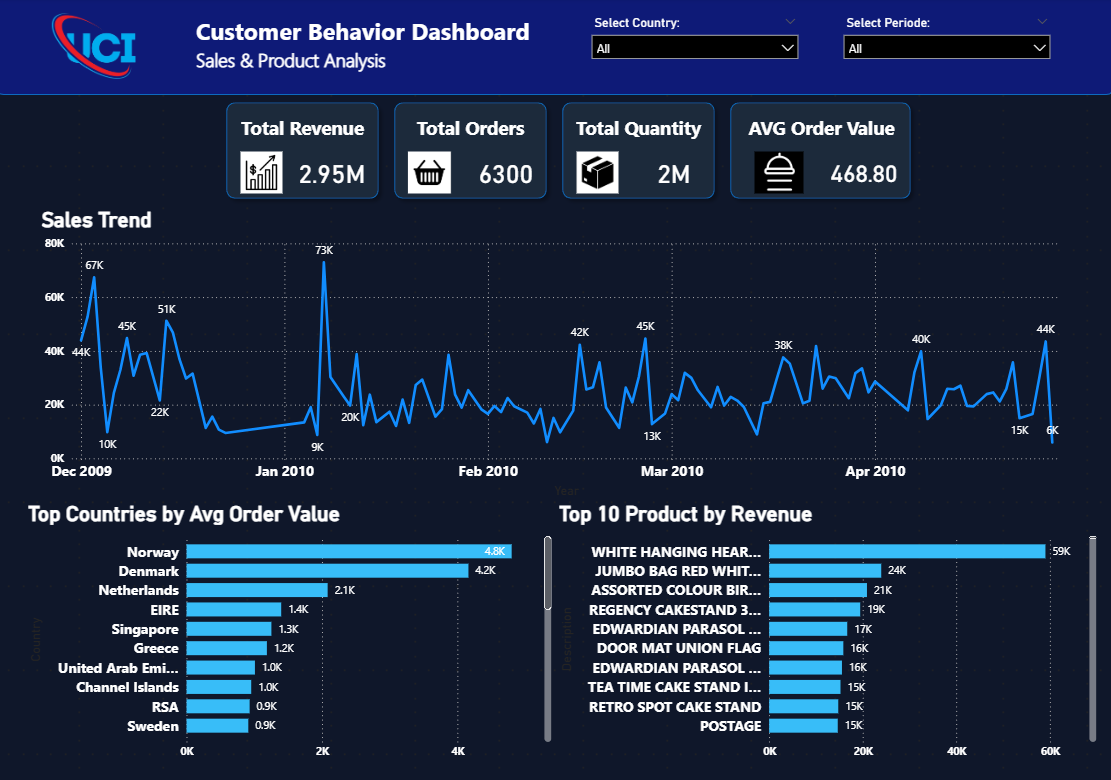

The dashboard page shown, as its layout file describes it:
{"tool":"powerbi","page":{"name":"Sales & Product Analysis","canvas":[1280,900],"ordinal":1},"visuals":[{"type":"shape","box":[256,112,192,128],"z":0},{"type":"shape","box":[448,112,192,128],"z":1000},{"type":"shape","box":[0,0,1280,112],"z":2000},{"type":"shape","box":[832,112,224,128],"z":3000},{"type":"textbox","box":[224,16,448,80],"z":4000},{"type":"shape","box":[640,112,192,128],"z":5000},{"type":"card","fields":{"Values":["Measure.Avg Order Value"]},"box":[944,176,96,48],"z":6000},{"type":"barChart","title":"Top 10 Product by Revenue","fields":{"Category":["cleaned_data.Description"],"Y":["Measure.Total Revenue"]},"box":[640,576,624,304],"z":7000},{"type":"card","fields":{"Values":["Measure.Total Orders"]},"box":[544,176,80,48],"z":8000},{"type":"card","fields":{"Values":["Measure.Total Quantity"]},"box":[736,176,80,48],"z":9000},{"type":"image","box":[32,16,160,80],"z":10000},{"type":"textbox","box":[448,128,192,48],"z":11000},{"type":"slicer","fields":{"Values":["cleaned_data.Country"]},"box":[672,16,256,80],"z":12000},{"type":"textbox","box":[640,128,192,48],"z":13000},{"type":"slicer","fields":{"Values":["cleaned_data.Year"]},"box":[960,16,256,80],"z":14000},{"type":"textbox","box":[848,128,192,48],"z":15000},{"type":"barChart","title":"Top Countries by Avg Order Value","fields":{"Category":["cleaned_data.Country"],"Y":["Measure.Avg Order Value"]},"box":[32,576,608,304],"z":16000},{"type":"textbox","box":[256,128,192,48],"z":17000},{"type":"lineChart","title":"Sales Trend","fields":{"Y":["Measure.Total Revenue"],"Category":["cleaned_data.InvoiceDate.Variation.Date Hierarchy.Year","cleaned_data.InvoiceDate.Variation.Date Hierarchy.Quarter","cleaned_data.InvoiceDate.Variation.Date Hierarchy.Month","cleaned_data.InvoiceDate.Variation.Date Hierarchy.Day"]},"box":[48,240,1200,336],"z":18000},{"type":"card","fields":{"Values":["Measure.Total Revenue"]},"box":[320,176,128,48],"z":19000},{"type":"image","box":[272,176,64,48],"z":20000},{"type":"image","box":[464,176,64,48],"z":21000},{"type":"image","box":[656,176,64,48],"z":22000},{"type":"image","box":[864,176,64,48],"z":23000}]}

Visuals, with their boxes in screenshot pixels (x1, y1, x2, y2), scaled from the page's 1280x900 canvas onto the 1111x780 screenshot:
shape: locate(222, 97, 389, 208)
shape: locate(389, 97, 556, 208)
shape: locate(0, 0, 1110, 97)
shape: locate(722, 97, 917, 208)
textbox: locate(194, 14, 583, 83)
shape: locate(556, 97, 722, 208)
card - Measure.Avg Order Value: locate(819, 153, 903, 194)
"Top 10 Product by Revenue" barChart: locate(556, 499, 1097, 763)
card - Measure.Total Orders: locate(472, 153, 542, 194)
card - Measure.Total Quantity: locate(639, 153, 708, 194)
image: locate(28, 14, 167, 83)
textbox: locate(389, 111, 556, 153)
slicer - cleaned_data.Country: locate(583, 14, 805, 83)
textbox: locate(556, 111, 722, 153)
slicer - cleaned_data.Year: locate(833, 14, 1055, 83)
textbox: locate(736, 111, 903, 153)
"Top Countries by Avg Order Value" barChart: locate(28, 499, 556, 763)
textbox: locate(222, 111, 389, 153)
"Sales Trend" lineChart: locate(42, 208, 1083, 499)
card - Measure.Total Revenue: locate(278, 153, 389, 194)
image: locate(236, 153, 292, 194)
image: locate(403, 153, 458, 194)
image: locate(569, 153, 625, 194)
image: locate(750, 153, 805, 194)
